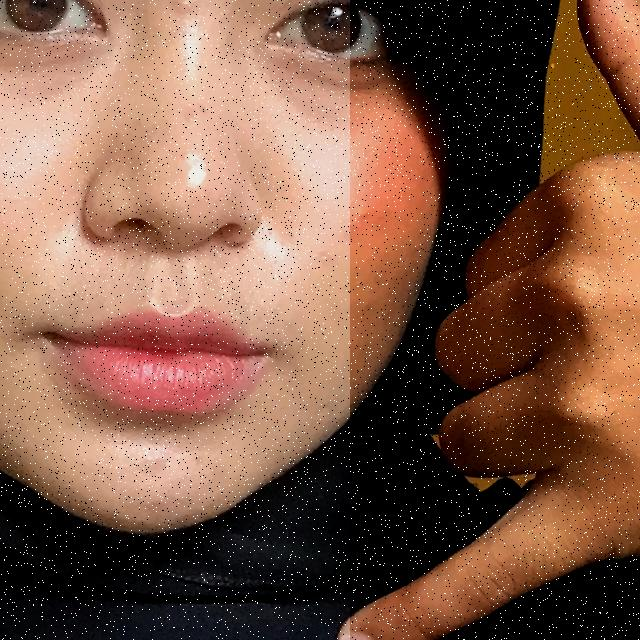telpon: (350, 0, 640, 640)
